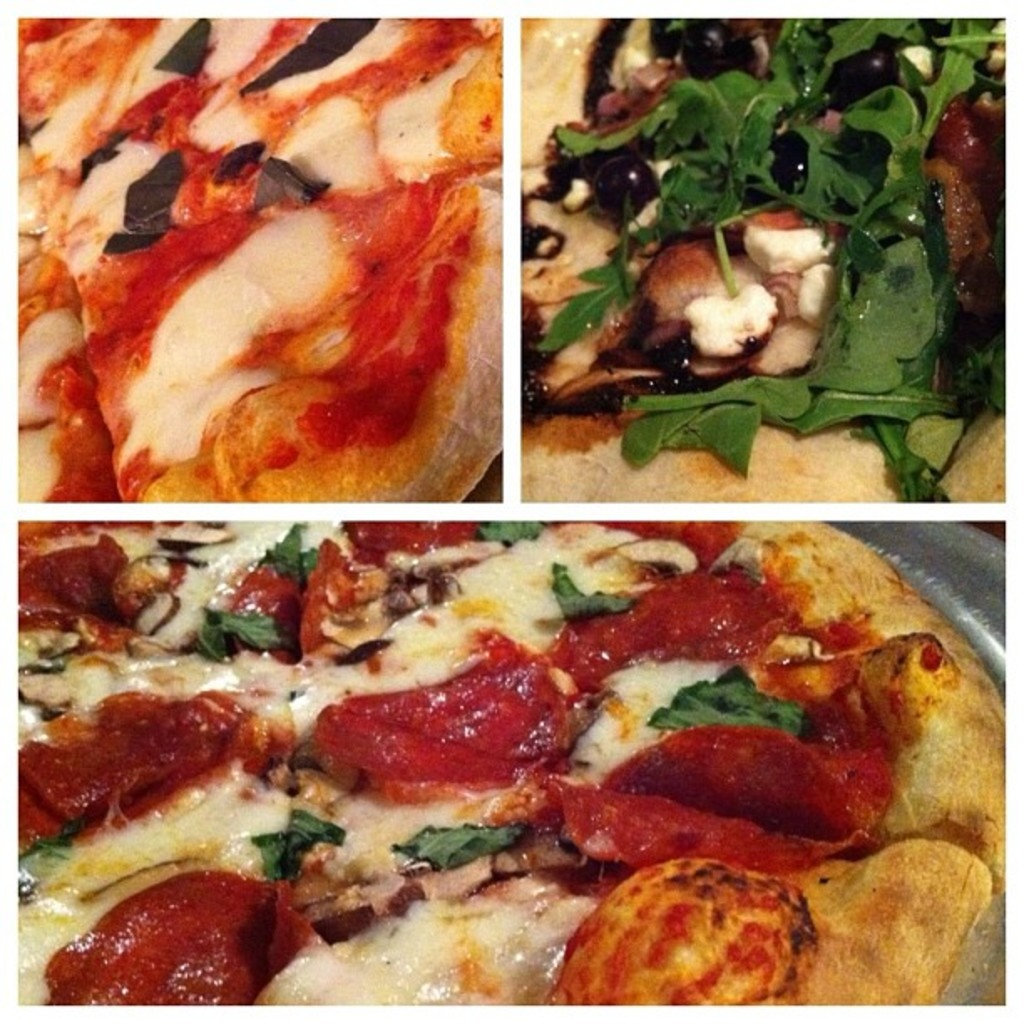Pizza: (21, 416, 997, 1003), (16, 15, 506, 501), (518, 18, 1010, 498)
